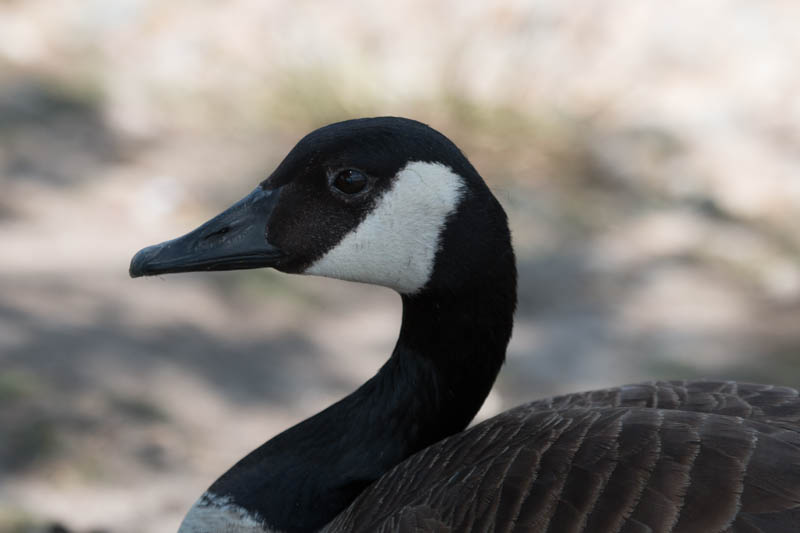goose-head: (128, 117, 517, 296)
